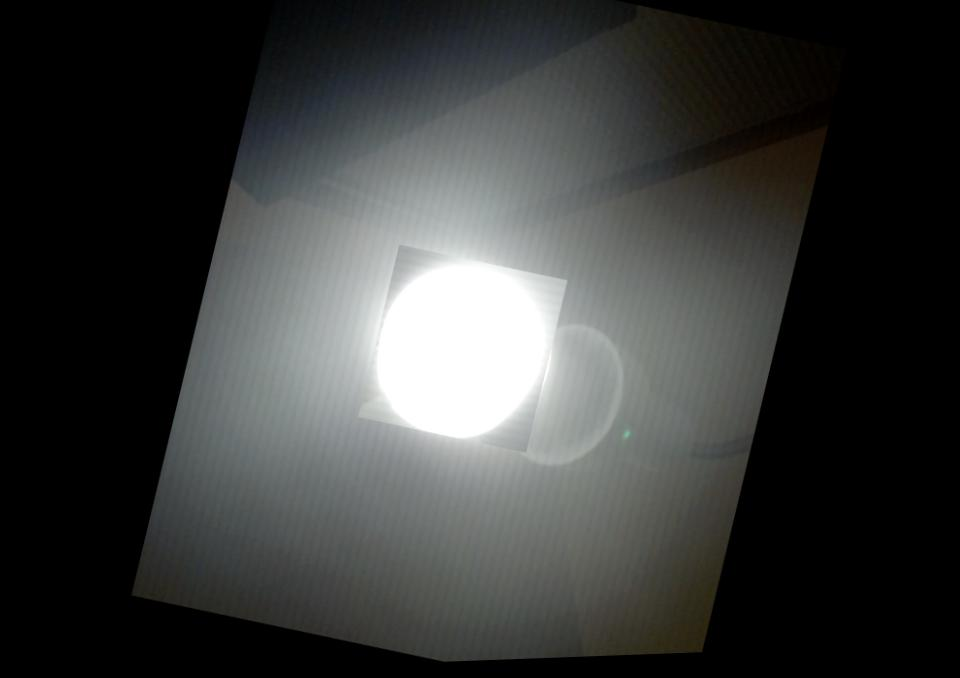TubeLight: (353, 244, 567, 461)
